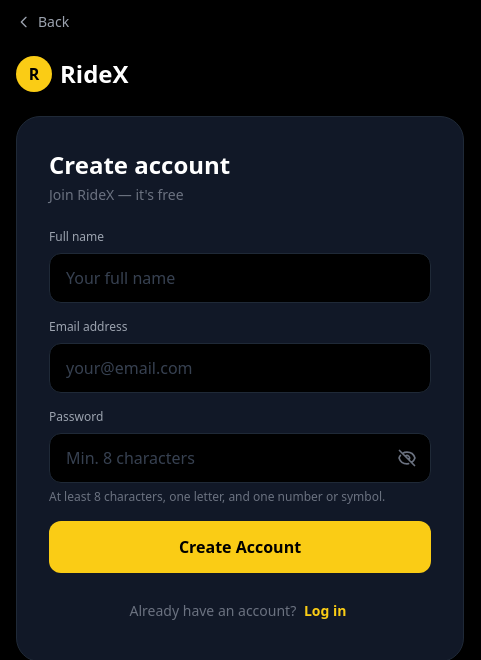
Register page › shows error when fields are missing
Click the button "Create Account" at [240, 547], box x1=49 y1=521 x2=431 y2=573
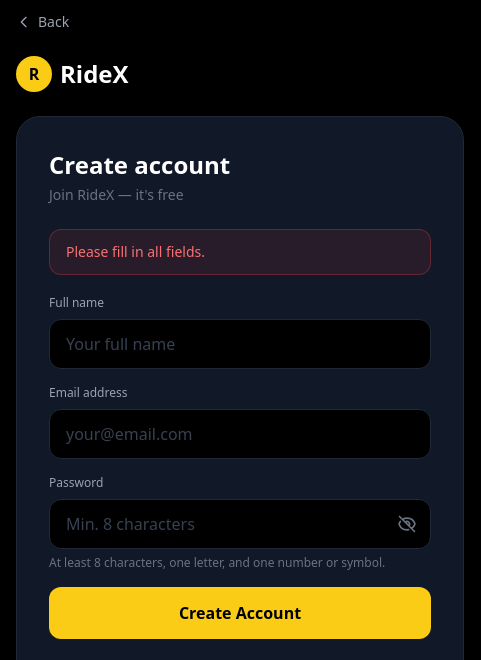
expect the text "Please fill in all fields." is shown: met, box x1=66 y1=242 x2=205 y2=261
